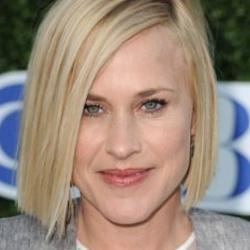face: (13, 1, 222, 235)
